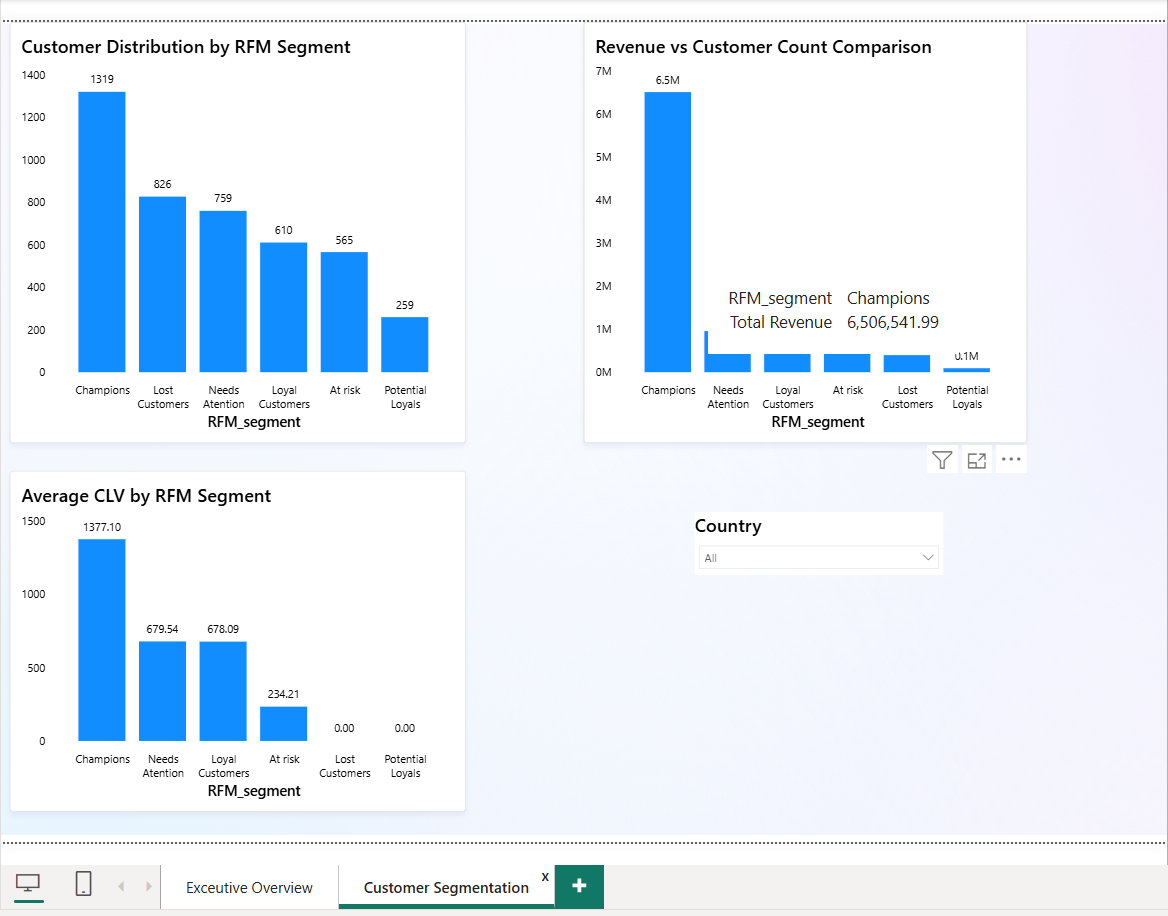

What the dashboard file says about the page in this screenshot:
{"tool":"powerbi","page":{"name":"Customer Segmentation","canvas":[1280,900],"ordinal":1},"visuals":[{"type":"clusteredColumnChart","title":"Customer Distribution by RFM Segment","fields":{"Category":["customer_rfm_clv.RFM_segment"],"Y":["customer_rfm_clv.Customer Count"]},"box":[9.6,0,500.9,462.4],"z":0},{"type":"clusteredColumnChart","title":"Revenue vs Customer Count Comparison","fields":{"Category":["customer_rfm_clv.RFM_segment"],"Y":["cleaned_transactions.Total Revenue"]},"box":[639.5,0,487.1,462.4],"z":1},{"type":"clusteredColumnChart","title":"Average CLV by RFM Segment","fields":{"Category":["customer_rfm_clv.RFM_segment"],"Y":["Avg(customer_rfm_clv.CLV)"]},"box":[9.6,492.6,500.9,374.6],"z":2},{"type":"slicer","title":"Country","fields":{"Values":["cleaned_transactions.Country"]},"box":[761.6,537.9,273.1,68.6],"z":3}]}

Visuals, with their boxes on the page's 1280x900 design canvas (x1, y1, x2, y2). These are canvas units, not pixel positions in the 1168x916 screenshot, which may show the page scaled, cropped or inside an application window:
"Customer Distribution by RFM Segment" clusteredColumnChart: 10, 0, 510, 462
"Revenue vs Customer Count Comparison" clusteredColumnChart: 640, 0, 1127, 462
"Average CLV by RFM Segment" clusteredColumnChart: 10, 493, 510, 867
"Country" slicer: 762, 538, 1035, 606
